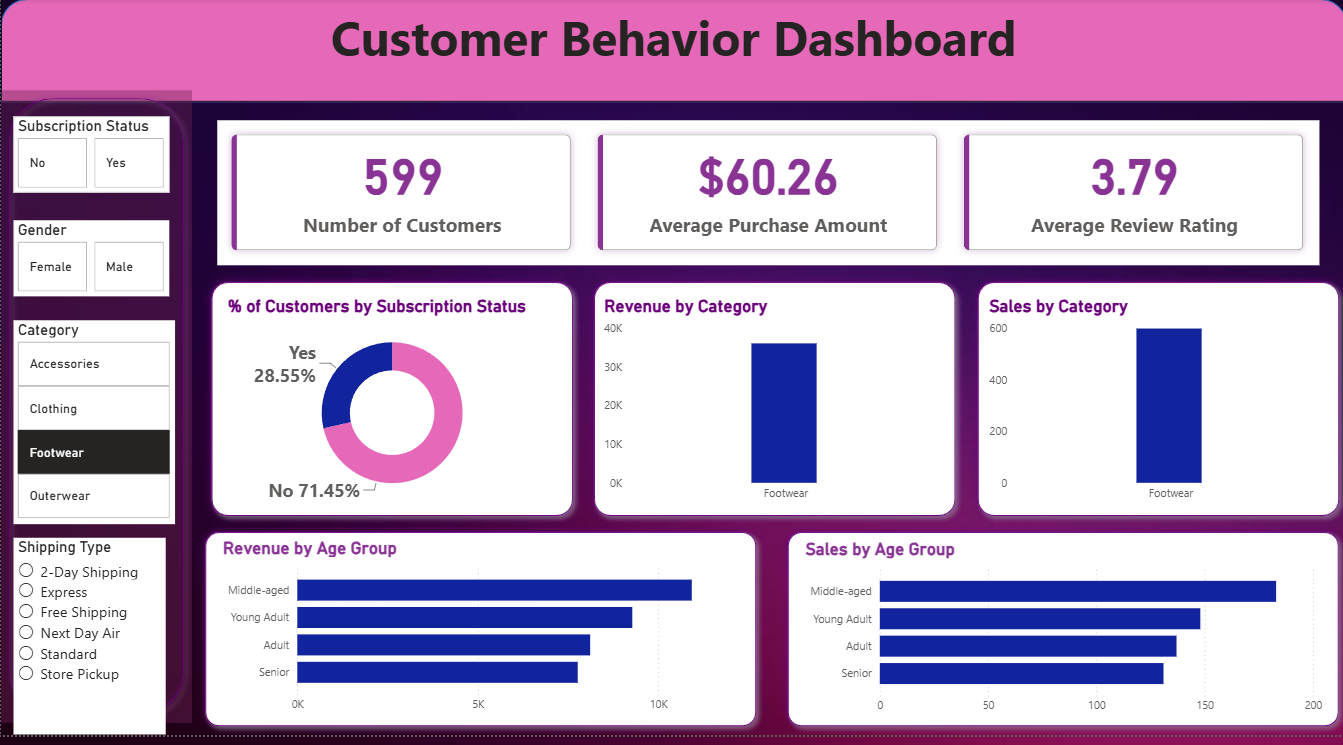

Layout of this report page (visuals, bound fields, positions):
{"tool":"powerbi","page":{"name":"Page 1","canvas":[1500,820],"ordinal":0},"visuals":[{"type":"cardVisual","fields":{"Data":["public customer.Number of Customers","public customer.Average Purchase Amount","public customer.Average Review Rating"]},"box":[240.9,135.1,1228.3,161.5],"z":2000},{"type":"shape","box":[218.3,585.6,631.7,234.2],"z":2500,"group":"g1"},{"type":"shape","box":[0,0,1499.4,115.3],"z":3000},{"type":"textbox","box":[0,0,1499.1,114.6],"z":4000},{"type":"shape","box":[225.4,307,420.5,278.6],"z":5000},{"type":"donutChart","title":"% of Customers by Subscription Status","fields":{"Category":["public customer.subscription_status"],"Y":["CountNonNull(public customer.customer_id)"]},"box":[248.4,331.8,376.2,237.8],"z":6000},{"type":"shape","box":[1078.9,307,420.5,278.6],"z":7000},{"type":"shape","box":[652.1,307,420.5,278.6],"z":8000},{"type":"clusteredColumnChart","title":"Revenue by Category","fields":{"Y":["Sum(public customer.purchase_amount)"],"Category":["public customer.category"]},"box":[667.2,331.8,385.1,237.8],"z":9000},{"type":"clusteredColumnChart","title":"Sales by Category","fields":{"Y":["CountNonNull(public customer.customer_id)"],"Category":["public customer.category"]},"box":[1096.6,331.8,385.1,237.8],"z":10000},{"type":"shape","box":[0,101.7,212.9,704.5],"z":11000},{"type":"advancedSlicerVisual","fields":{"Values":["public customer.subscription_status"]},"box":[13.9,130.9,173.9,85.2],"z":12000},{"type":"advancedSlicerVisual","fields":{"Values":["public customer.gender"]},"box":[13.9,246.5,173.9,85.2],"z":13000},{"type":"advancedSlicerVisual","fields":{"Values":["public customer.category"]},"box":[13.9,357.9,179.7,227],"z":14000},{"type":"listSlicer","fields":{"Values":["public customer.shipping_type"]},"box":[13.9,600.2,169.4,219.5],"z":15000},{"type":"shape","box":[867.7,585.6,631.7,234.2],"z":16000},{"type":"clusteredBarChart","title":"Sales by Age Group","fields":{"Y":["CountNonNull(public customer.customer_id)"],"Category":["public customer.age_group"]},"box":[890.8,601.5,585.6,204.1],"z":17000},{"type":"clusteredBarChart","title":"Revenue by Age Group","fields":{"Y":["Sum(public customer.purchase_amount)"],"Category":["public customer.age_group"]},"box":[241.4,601.6,585.6,204.1],"z":17500,"group":"g1"},{"type":"group","id":"g1","title":"Group 1","box":[218.3,585.6,631.7,234.2],"z":17501}]}

Visuals, with their boxes in screenshot pixels (x1, y1, x2, y2), scaled from the page's 1500x820 canvas onto the 1343x745 screenshot:
cardVisual - public customer.Number of Customers x public customer.Average Purchase Amount: (216, 123, 1315, 269)
shape: (195, 532, 761, 744)
shape: (0, 0, 1342, 105)
textbox: (0, 0, 1342, 104)
shape: (202, 279, 578, 532)
"% of Customers by Subscription Status" donutChart: (222, 301, 559, 518)
shape: (966, 279, 1342, 532)
shape: (584, 279, 960, 532)
"Revenue by Category" clusteredColumnChart: (597, 301, 942, 518)
"Sales by Category" clusteredColumnChart: (982, 301, 1327, 518)
shape: (0, 92, 191, 732)
advancedSlicerVisual - public customer.subscription_status: (12, 119, 168, 196)
advancedSlicerVisual - public customer.gender: (12, 224, 168, 301)
advancedSlicerVisual - public customer.category: (12, 325, 173, 531)
listSlicer - public customer.shipping_type: (12, 545, 164, 744)
shape: (777, 532, 1342, 744)
"Sales by Age Group" clusteredBarChart: (798, 546, 1322, 732)
"Revenue by Age Group" clusteredBarChart: (216, 547, 740, 732)
"Group 1" group: (195, 532, 761, 744)
